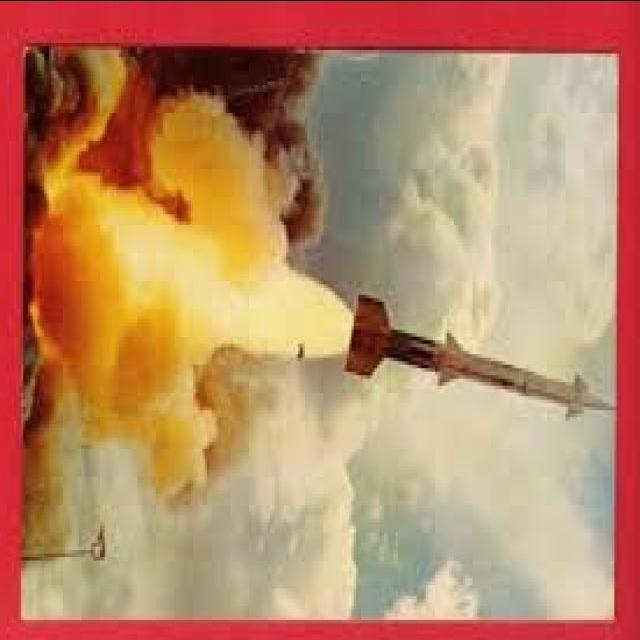missile: (336, 286, 615, 428)
